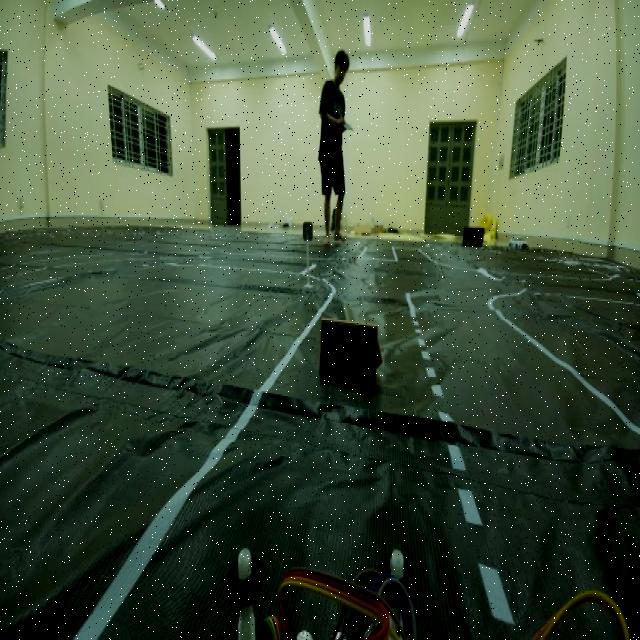roadblock: (316, 310, 383, 392)
